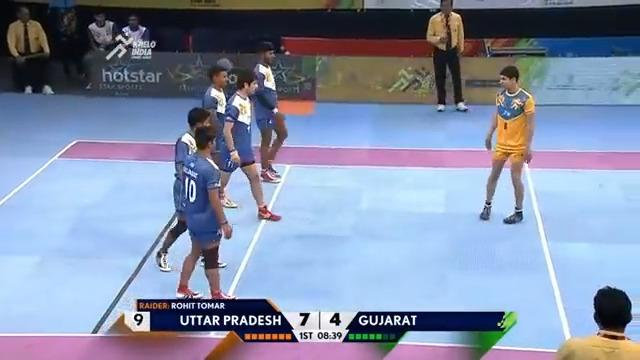Player: (175, 125, 236, 300), (218, 66, 282, 221), (154, 106, 213, 272), (553, 285, 639, 359), (201, 63, 239, 208), (250, 40, 288, 183), (86, 10, 119, 52)
Raider: (479, 64, 536, 224)
referee: (425, 0, 469, 112), (5, 4, 51, 93)
